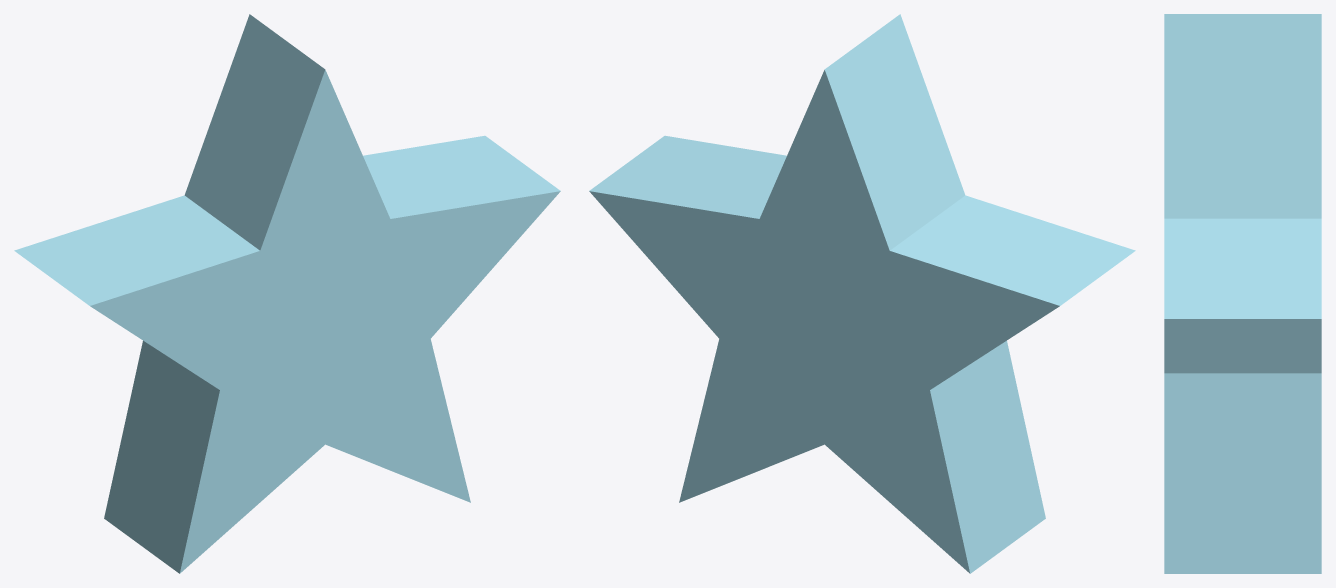
File: StruggleOrbStar.glb
The picture shows the model from 3 angles, left to right: view 1: azimuth 30°, elevation 25°; view 2: azimuth 150°, elevation 25°; view 3: azimuth 270°, elevation 25°; orthographic projection. The views are drawn at different scales.
Parts seen in each view (by area): view 1: Orb; view 2: Orb; view 3: Orb.
Part boxes in pixels (x1,y1,x2,y2): Orb: (14, 14, 560, 573); Orb: (589, 14, 1135, 573); Orb: (1164, 14, 1321, 573).
Size of the model in its own units: 1.62 by 1.54 by 0.45.
